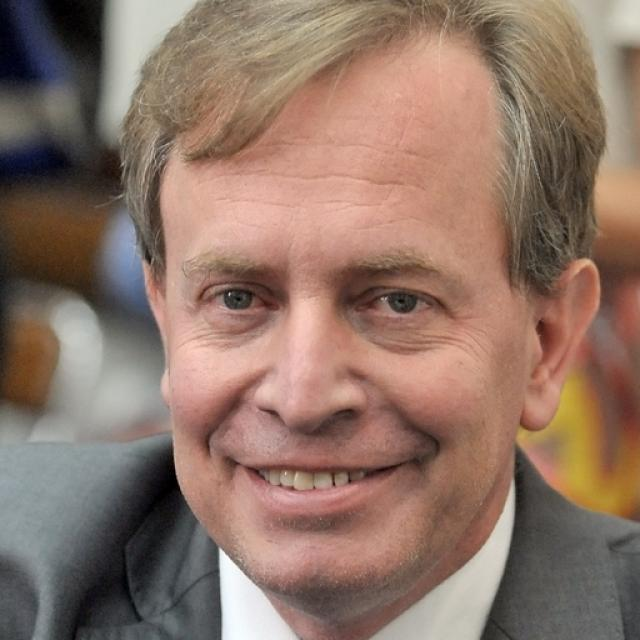Dark Circle: (350, 310, 439, 349), (188, 309, 272, 350)
Wrinkle: (192, 160, 420, 195), (209, 188, 392, 216)
